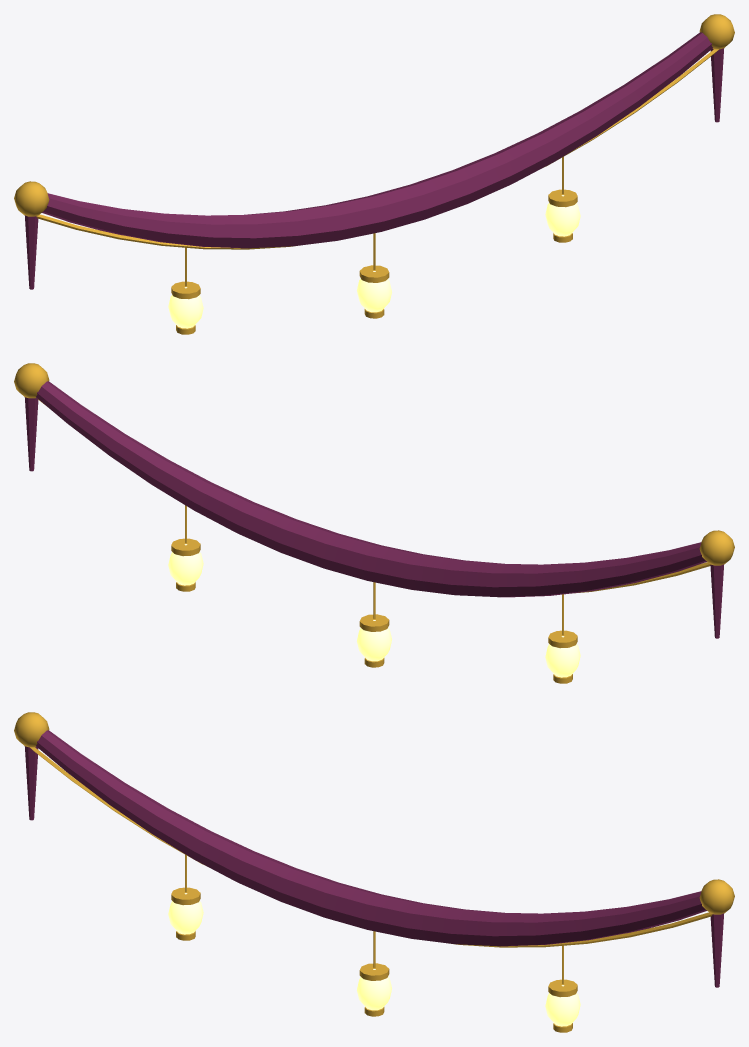
The model's file is masq_garland.glb.
The picture shows the model from 3 angles, top to bottom: view 1: azimuth 30°, elevation 25°; view 2: azimuth 150°, elevation 25°; view 3: azimuth 330°, elevation 25°; orthographic projection.
Visible parts, largest first — view 1: masq_garland; view 2: masq_garland; view 3: masq_garland.
Part boxes in pixels (x1,y1,x2,y2): masq_garland: [14, 14, 734, 334]; masq_garland: [14, 363, 734, 683]; masq_garland: [14, 712, 734, 1032].
Size of the model in its own units: 4.18 by 1.2 by 0.2.
